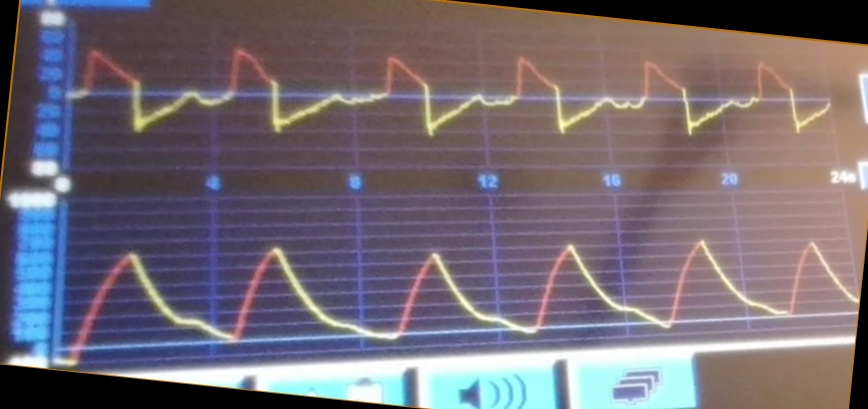Ineffective_effort Flow: (74, 44, 834, 156)
Ineffective_effort Volume: (66, 229, 853, 351)
